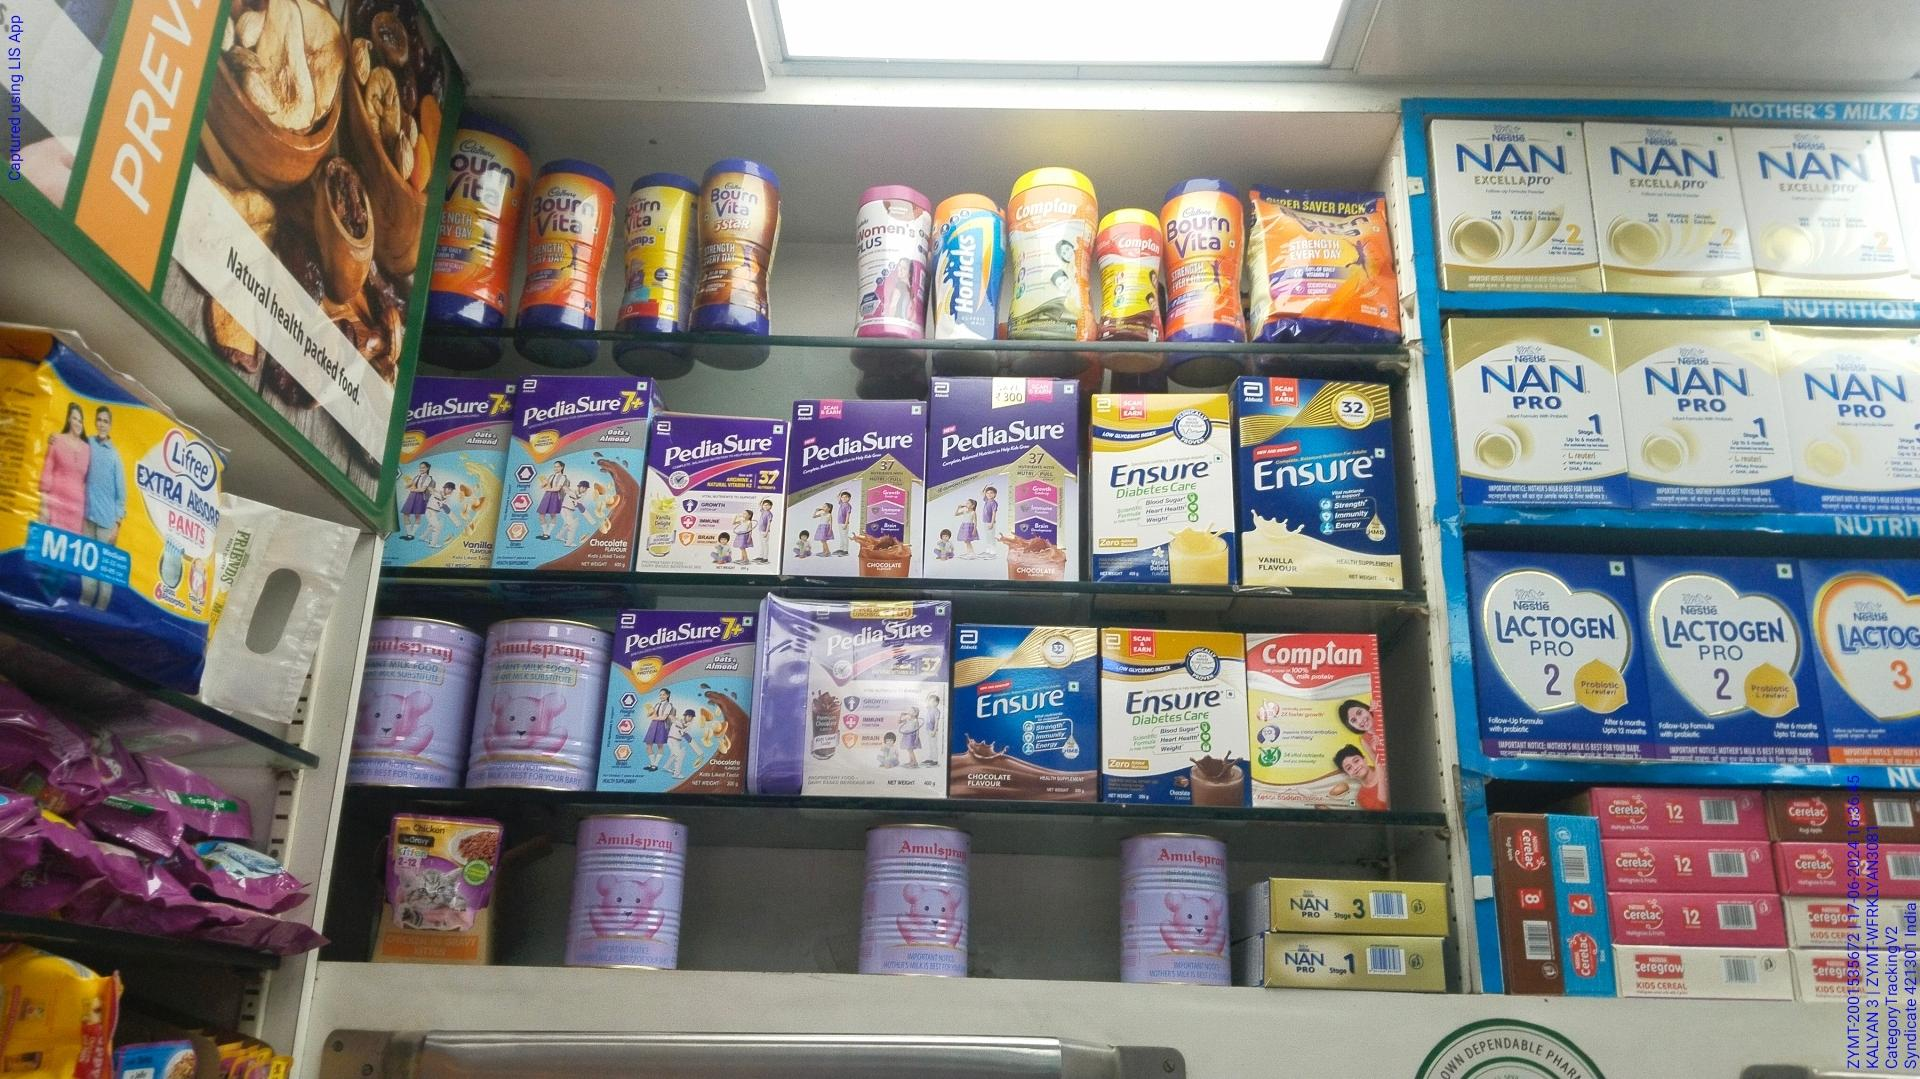BOURN_VITA_1_KG_JAR: (440, 115, 524, 354)
BOURN_VITA_1_KG_POUCH: (1254, 186, 1400, 344)
BOURN_VITA_500_G_JAR: (527, 158, 615, 363)
BOURN_VITA_CHAMPS_500_G_JAR: (621, 171, 698, 369)
BOURN_VITA_FIVE_STAR_MAGIC_500_G_JAR: (703, 160, 775, 357)
COMPLAN_CHOCOLATE_500_GMS_JAR: (1100, 210, 1164, 348)
COMPLAN_KESAR_BADAM_500_GMS_PACK: (1250, 631, 1391, 810)
ENSURE_VANILLA_400_G_PACK: (1241, 377, 1400, 594)
HORLICK_CLASSIC_MALT_500_G_JAR: (934, 189, 1000, 346)
PEDIASURE_7_PLUS_CHOCOLATE_400_G_PACK: (605, 609, 756, 798), (512, 376, 642, 567)
PEDIASURE_CHOCOLATE_500_G_PACK: (931, 376, 1077, 578), (789, 401, 924, 579)
